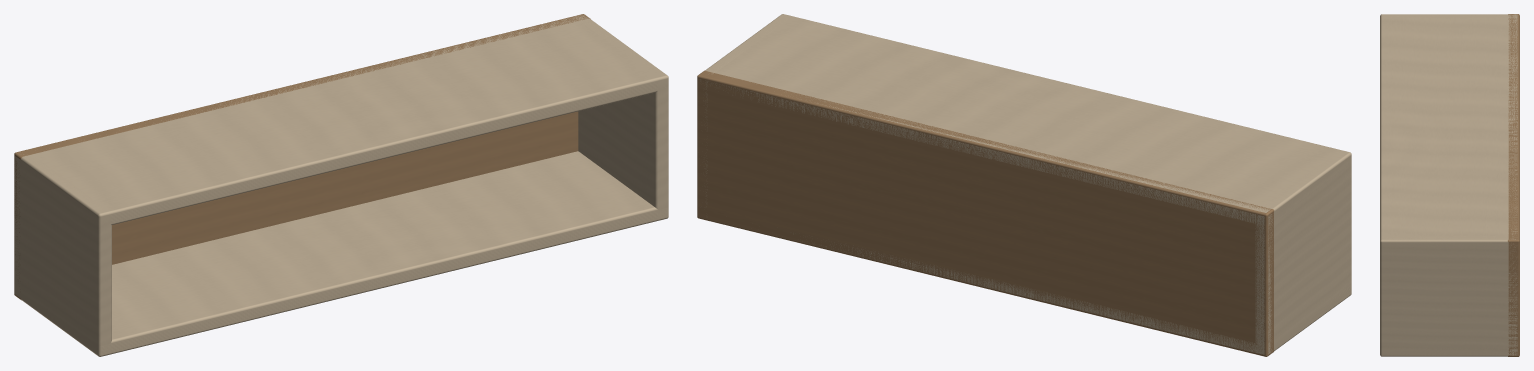
The picture shows the model from 3 angles, left to right: view 1: azimuth 30°, elevation 25°; view 2: azimuth 150°, elevation 25°; view 3: azimuth 270°, elevation 25°; orthographic projection. The views are drawn at different scales.
Visible parts, largest first — view 1: top, bottom, back, side_-1, side_1; view 2: back, top, side_-1, bottom, side_1; view 3: top, side_1, back, bottom, side_-1.
Part boxes in pixels (bbox=[...]): top: bbox=[16, 15, 668, 224]; bottom: bbox=[22, 151, 668, 356]; back: bbox=[14, 14, 590, 300]; side_-1: bbox=[14, 155, 111, 356]; side_1: bbox=[575, 15, 668, 219]; back: bbox=[697, 70, 1274, 356]; top: bbox=[700, 14, 1351, 225]; side_-1: bbox=[1255, 150, 1351, 354]; bottom: bbox=[793, 233, 1351, 354]; side_1: bbox=[703, 14, 791, 206]; top: bbox=[1380, 14, 1517, 249]; side_1: bbox=[1380, 236, 1517, 355]; back: bbox=[1508, 14, 1519, 356]; bottom: bbox=[1380, 347, 1516, 356]; side_-1: bbox=[1380, 14, 1517, 18].
Bounding box in the file's own units: 1 × 0.24 × 0.26.
2 materials, 2 textured.
